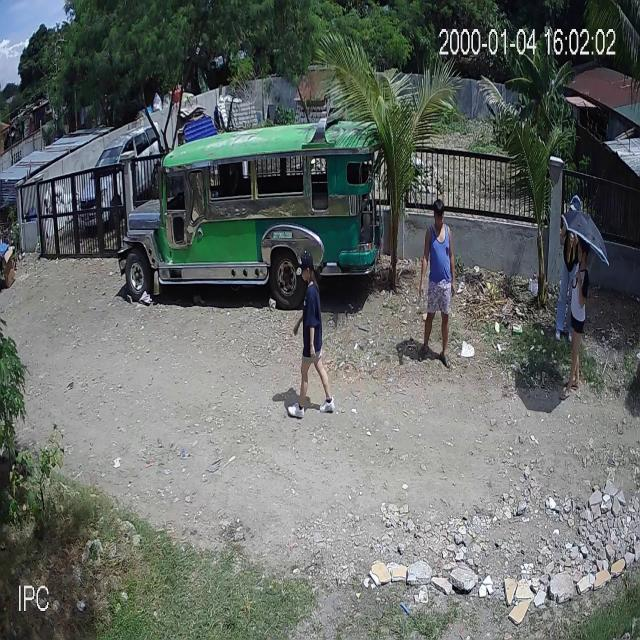standing: (554, 194, 586, 344)
walking: (286, 252, 336, 422), (417, 196, 455, 368), (557, 237, 591, 401)
